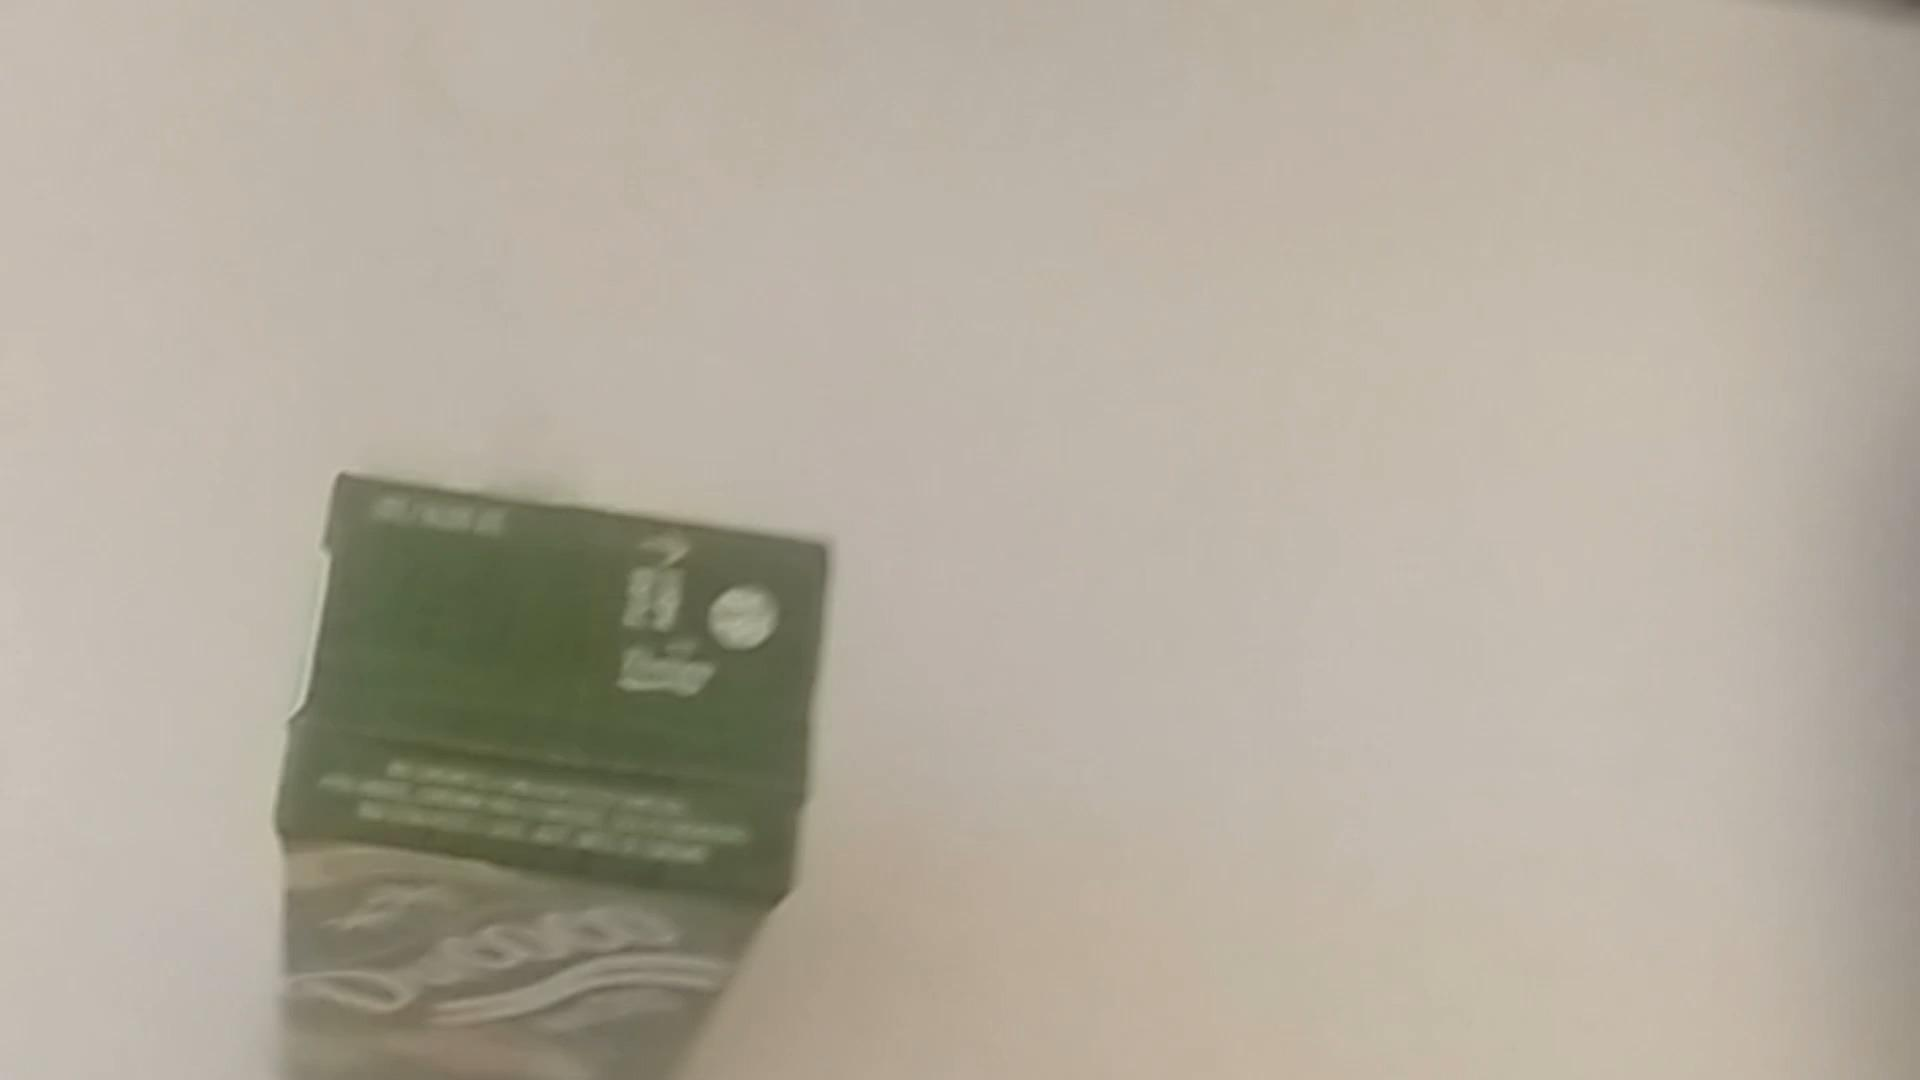coco: (265, 458, 848, 1075)
